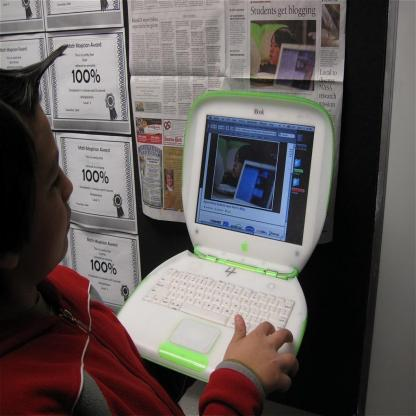board: (127, 90, 322, 384), (263, 43, 316, 89)
